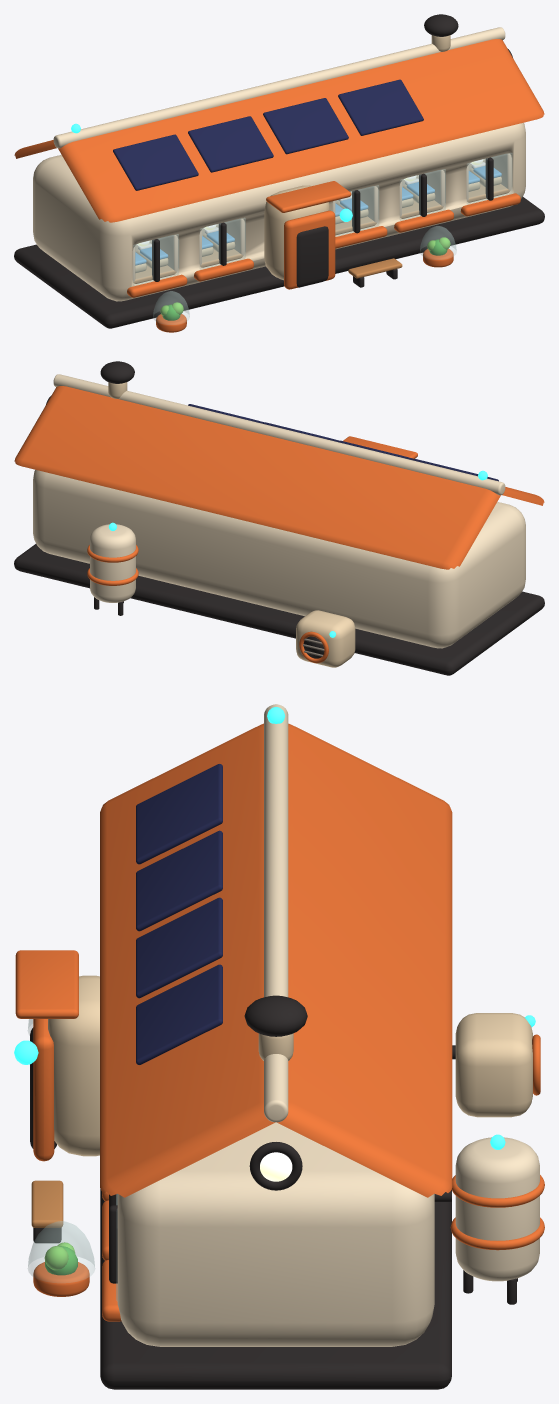
Rendered from home-b-10.glb.
3 views of the same model, one above another, from view 1: azimuth 30°, elevation 25°; view 2: azimuth 150°, elevation 25°; view 3: azimuth 270°, elevation 25° (orthographic). The views are drawn at different scales.
Parts seen in each view (by area): view 1: Cube.071, Cube.001, Cube, Cylinder, Cube.072, Cube.075, Cube.074, Cube.073, Cube.068, Cube.067, Cube.069, Cube.064 (+21 smaller); view 2: Cube.071, Cube.001, Cube, Cylinder, Cylinder.007, Cube.076, Sphere.006, Cube.070, Torus.001; view 3: Cube.071, Cube.001, Cube, Cylinder.007, Cylinder, Cube.076, Cube.067, Cube.074, Cube.073, Cube.075, Cube.072, Cube.070 (+9 smaller).
Boxes of the visible parts, x1,y1,x2,y2 form: Cube.071: (14, 39, 544, 222); Cube.001: (33, 123, 525, 301); Cube: (14, 197, 544, 328); Cylinder: (53, 27, 505, 148); Cube.072: (113, 134, 198, 190); Cube.075: (338, 79, 423, 135); Cube.074: (263, 98, 348, 154); Cube.073: (188, 116, 273, 172); Cube.068: (284, 210, 335, 289); Cube.067: (264, 185, 329, 280); Cube.069: (296, 226, 328, 287); Cube.064: (466, 153, 512, 204); Cube.071: (14, 386, 544, 569); Cube.001: (33, 470, 525, 648); Cube: (14, 544, 544, 675); Cylinder: (53, 374, 505, 495); Cylinder.007: (90, 524, 135, 602); Cube.076: (296, 610, 355, 667); Sphere.006: (100, 361, 134, 383); Cube.070: (343, 436, 417, 458); Torus.001: (299, 631, 328, 663); Cube.071: (100, 723, 452, 1197); Cube.001: (117, 1122, 434, 1346); Cube: (100, 1189, 451, 1389); Cylinder.007: (455, 1137, 539, 1281); Cylinder: (264, 704, 288, 1122); Cube.076: (455, 1013, 532, 1117); Cube.067: (48, 975, 99, 1156); Cube.074: (136, 897, 222, 998); Cube.073: (136, 830, 222, 931); Cube.075: (136, 964, 222, 1064); Cube.072: (136, 764, 222, 864); Cube.070: (15, 950, 78, 1018).
Bounding box in the file's own units: 2.71 × 1.07 × 1.51.
